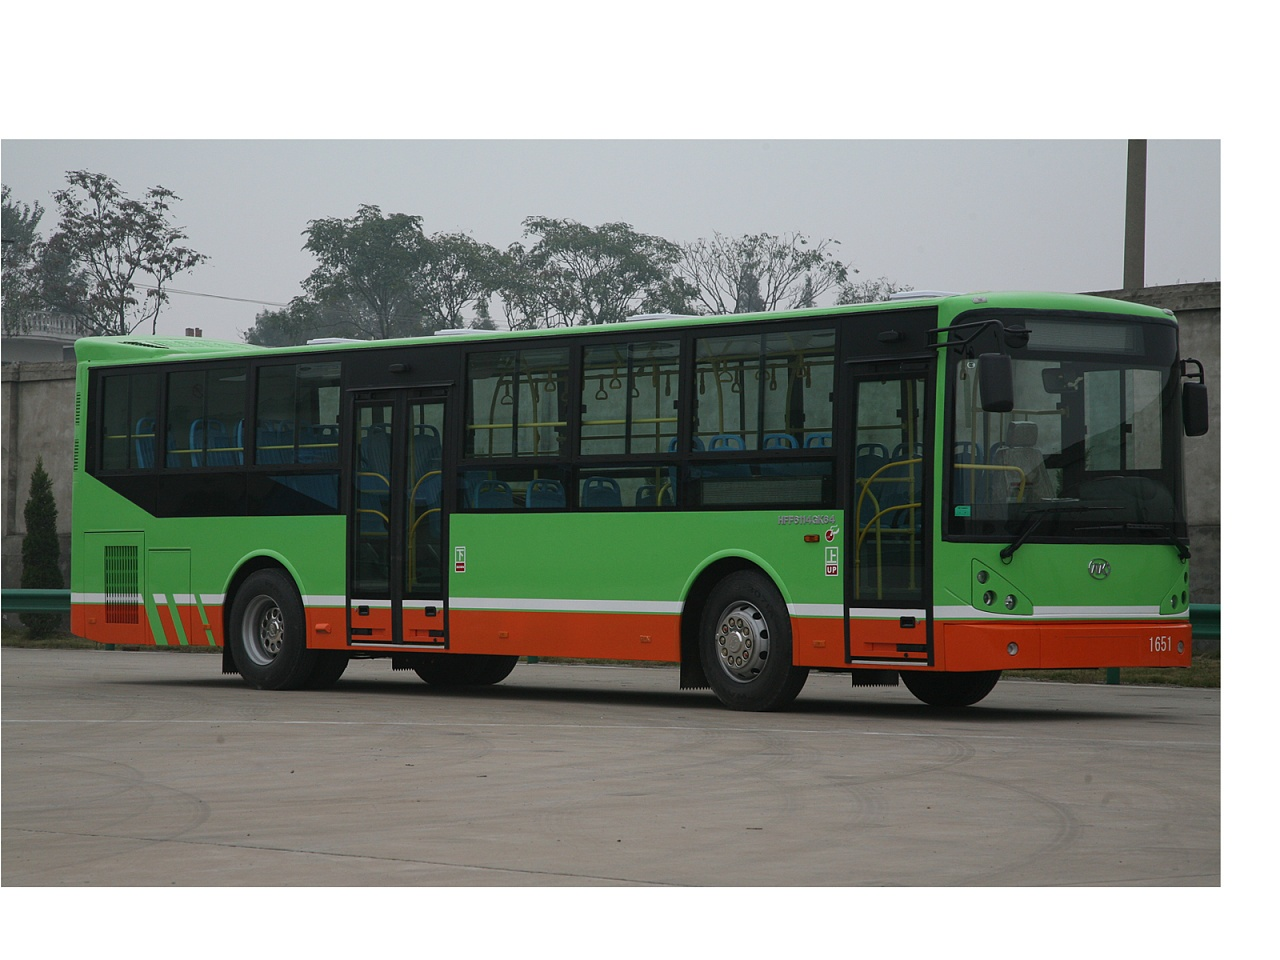bus: (62, 290, 1204, 706)
